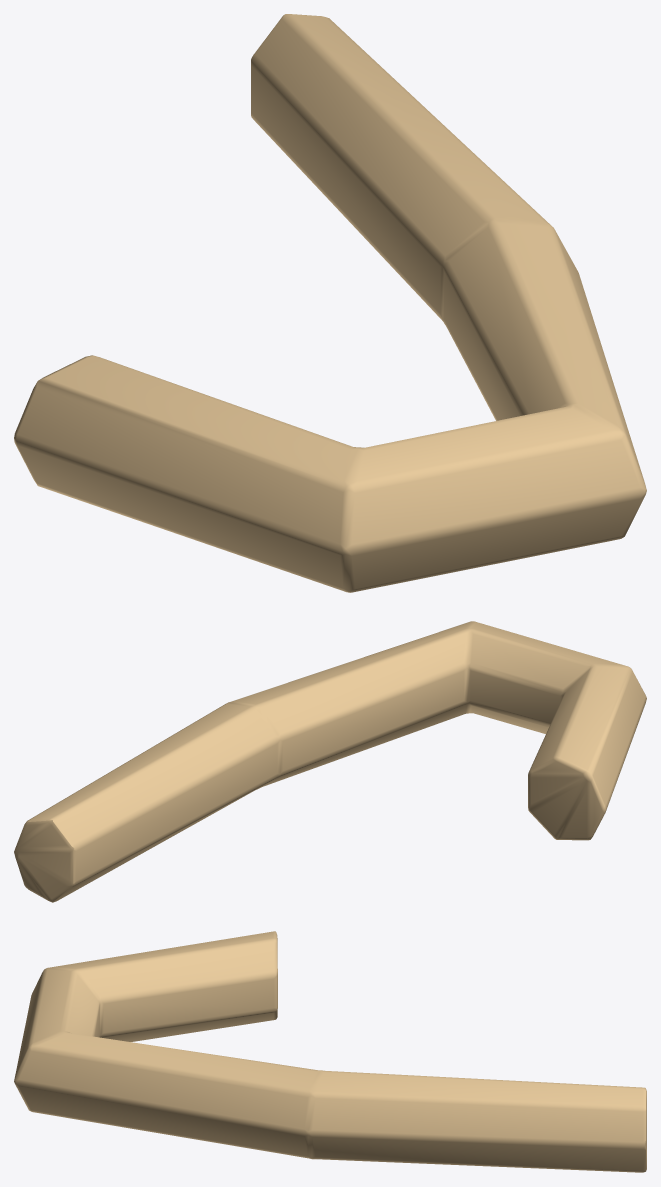
File: Hook.FBX
3 renders of one model, top to bottom at view 1: azimuth 30°, elevation 25°; view 2: azimuth 150°, elevation 25°; view 3: azimuth 270°, elevation 25°, orthographic. The views are drawn at different scales.
Visible parts, largest first — view 1: Torus001; view 2: Torus001; view 3: Torus001.
Part boxes in pixels (left/top/right/bottom): Torus001: left=14, top=14, right=646, bottom=592; Torus001: left=14, top=621, right=646, bottom=902; Torus001: left=14, top=931, right=646, bottom=1172.
Bounding box in the file's own units: 42.39 × 8.45 × 59.73.
